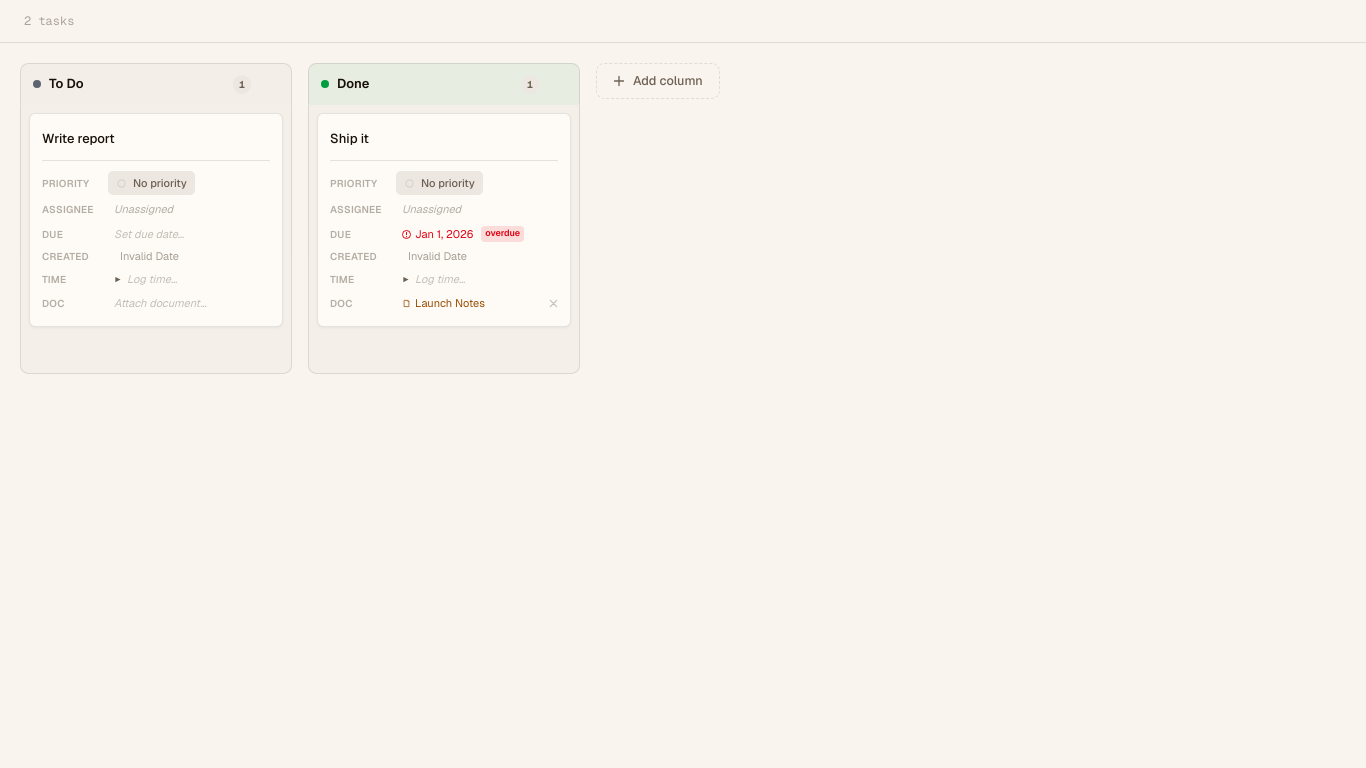
Scenario: KanbanView › reverts an attach when the persist fails
Step 1. Click the button "Attach document…" → (192, 304), box 108,293 -> 276,314
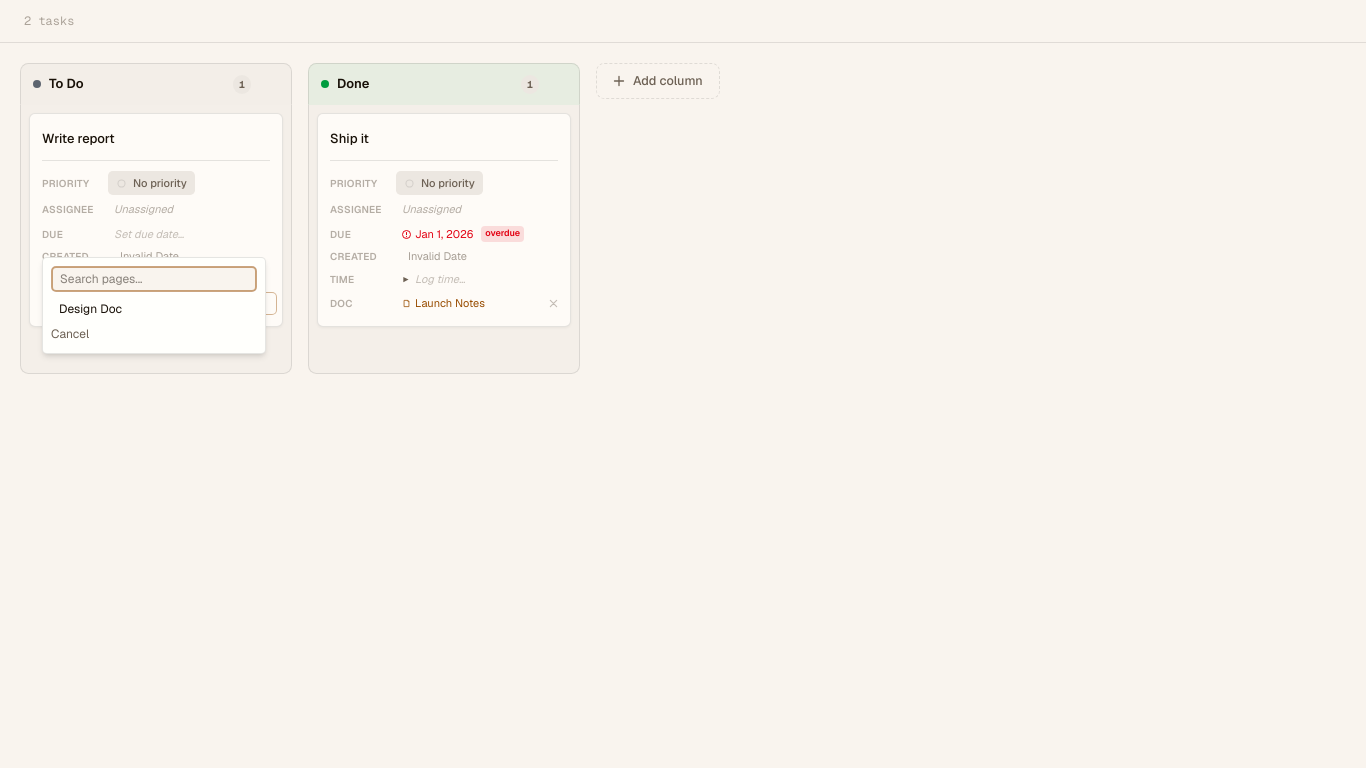
Step 2. Click the button "Design Doc" → (154, 309), box 51,297 -> 257,321
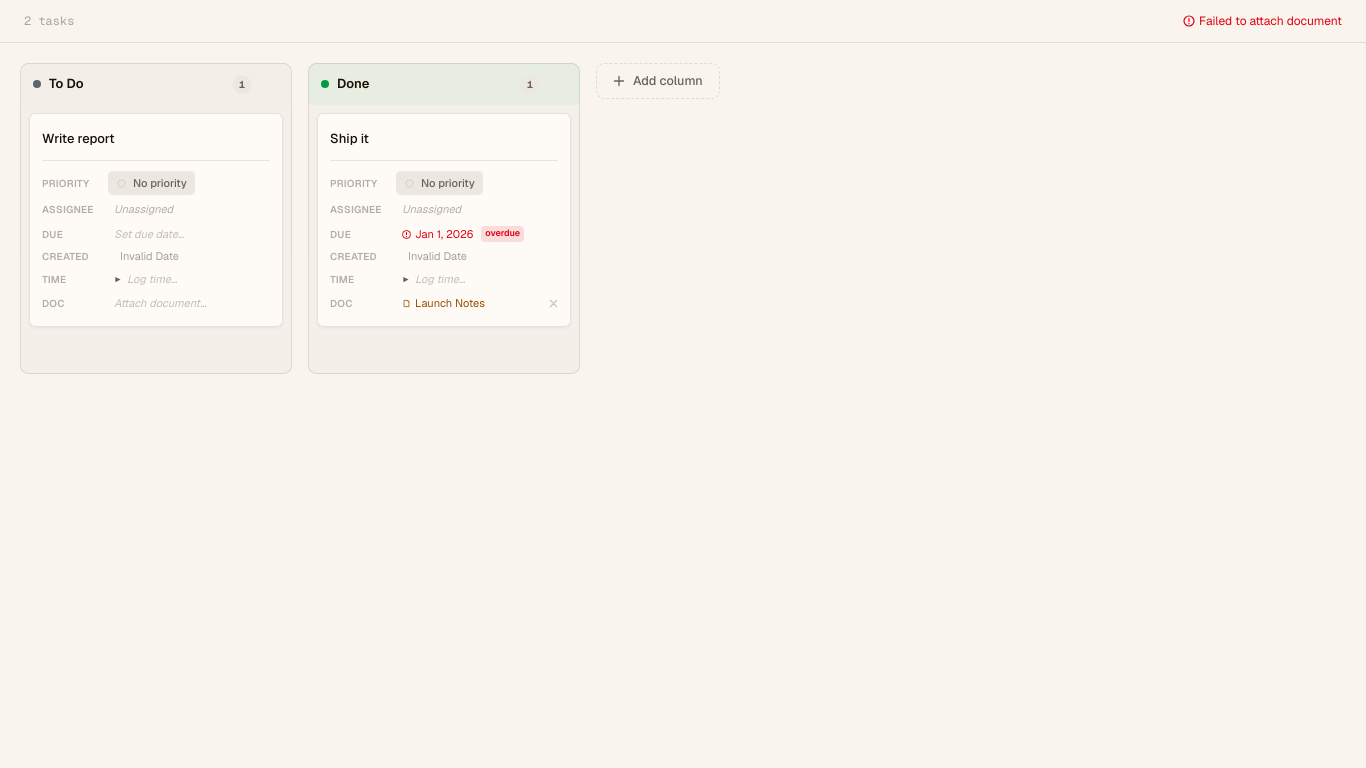
Now the text "Failed to attach document" is shown, box 1183,12 -> 1342,30
